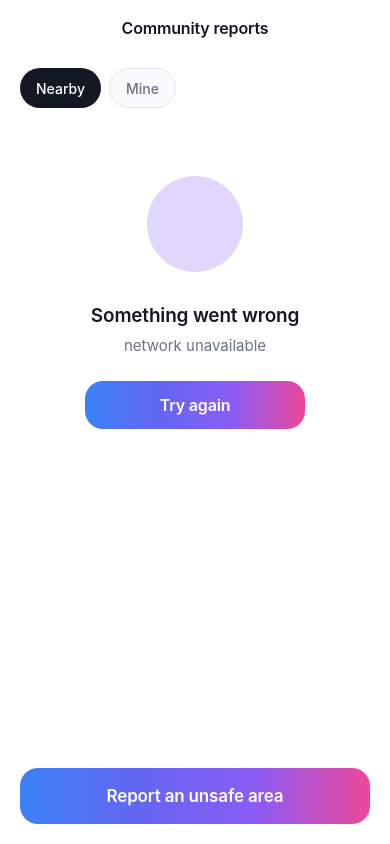
CommunityReportsScreen › shows an error state with retry when loading fails
Expected: the text "network unavailable" is shown, [124,335,266,357]
Click the text "Try again": (195, 405) [160,395,230,415]
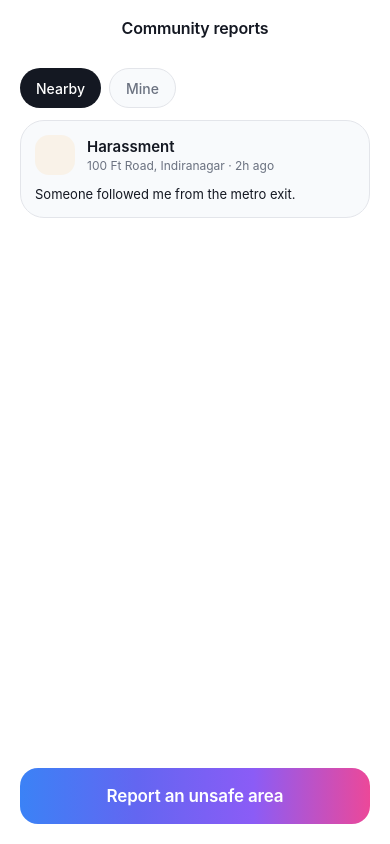
Now the text "Harassment" is shown, box [87,137,175,156]
